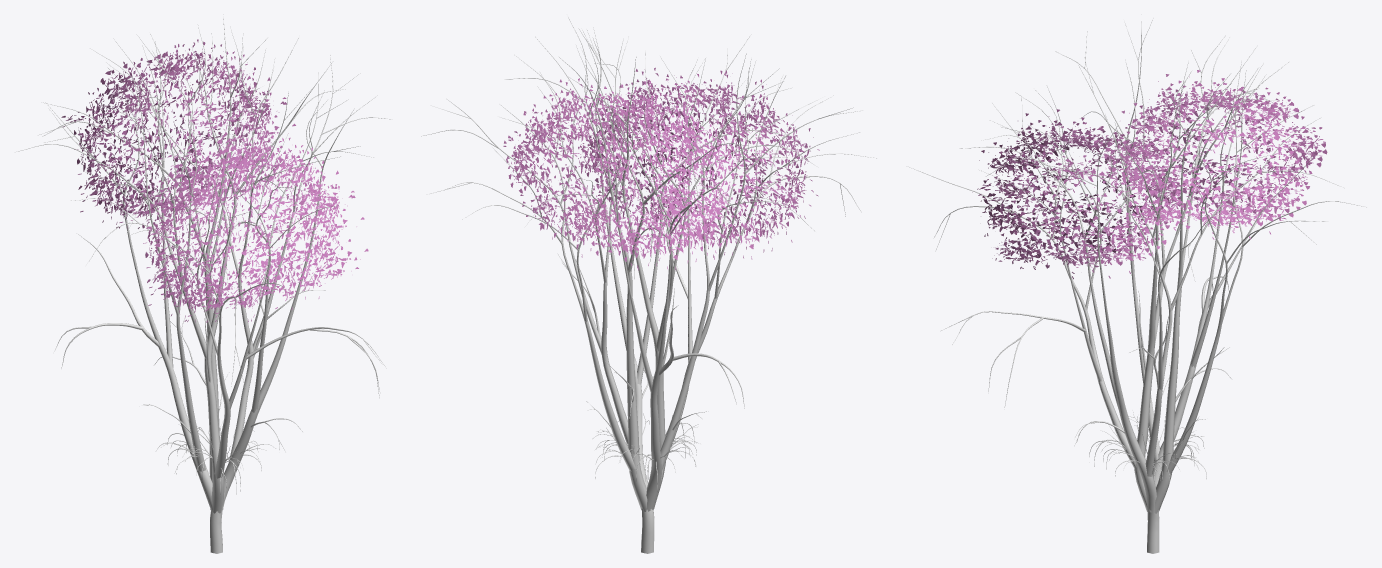
File: Tree_C.fbx
3 views of the same model, side by side, from view 1: azimuth 30°, elevation 25°; view 2: azimuth 150°, elevation 25°; view 3: azimuth 270°, elevation 25° (orthographic). The views are drawn at different scales.
Parts seen in each view (by area): view 1: tree.001, Bush_B_LOD0.001, Bush_B_LOD0.002; view 2: tree.001, Bush_B_LOD0.002, Bush_B_LOD0.001; view 3: tree.001, Bush_B_LOD0.002, Bush_B_LOD0.001.
Part boxes in pixels (<box>): tree.001: <box>15,17,392,553</box>; Bush_B_LOD0.001: <box>130,133,368,322</box>; Bush_B_LOD0.002: <box>61,39,299,228</box>; tree.001: <box>421,17,877,553</box>; Bush_B_LOD0.002: <box>503,78,743,270</box>; Bush_B_LOD0.001: <box>580,67,819,259</box>; tree.001: <box>906,18,1366,553</box>; Bush_B_LOD0.002: <box>1117,70,1327,239</box>; Bush_B_LOD0.001: <box>972,109,1186,279</box>.
Size of the model in its own units: 5.85 by 6.51 by 7.73.
